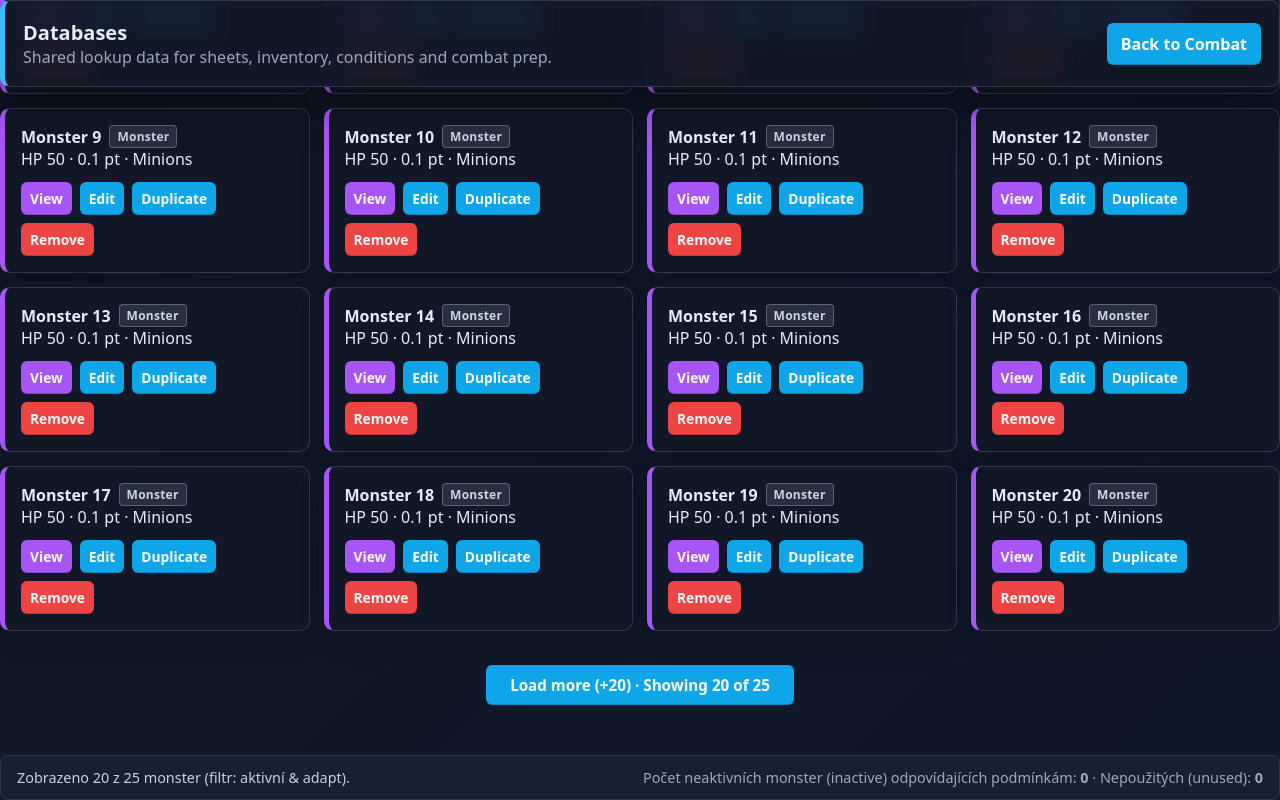
page visual behavior › shows adapt flag monsters by default with adapt badge, supports multiple groups and 20-item load more pagination
The image size is (1280, 800).
(page scrolled)
Check: the heading "Monster 20" is shown, box [992,484,1081,506]
Check: the text "Monster 21" is not shown
Click load more
What coordinates should you click on to do the following:
click the button "Load more (+20) · Showing 20 of 25"
I would click on:
 (640, 685)
Its box is [486,665,794,705].
(page scrolled)
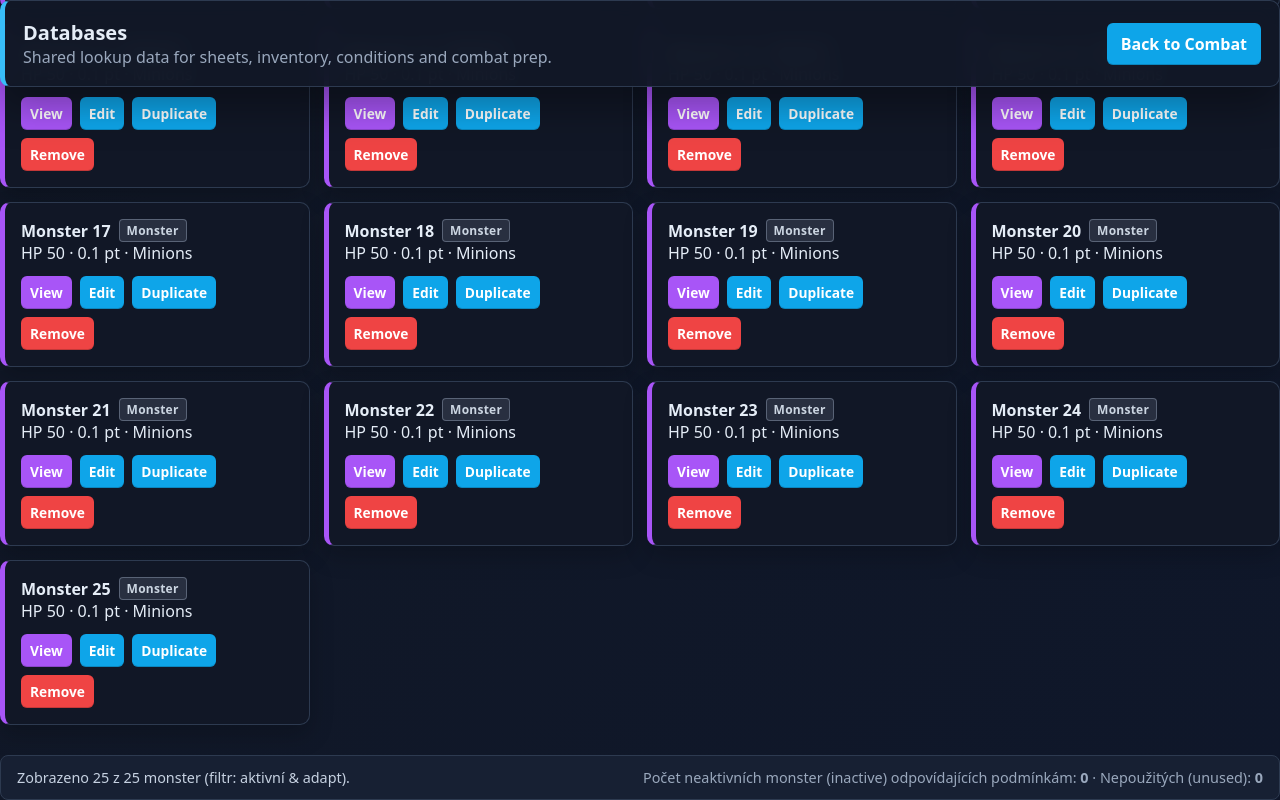
Check: the heading "Monster 21" is shown, box [21,398,111,420]
Check: the heading "Monster 25" is shown, box [21,578,111,600]
